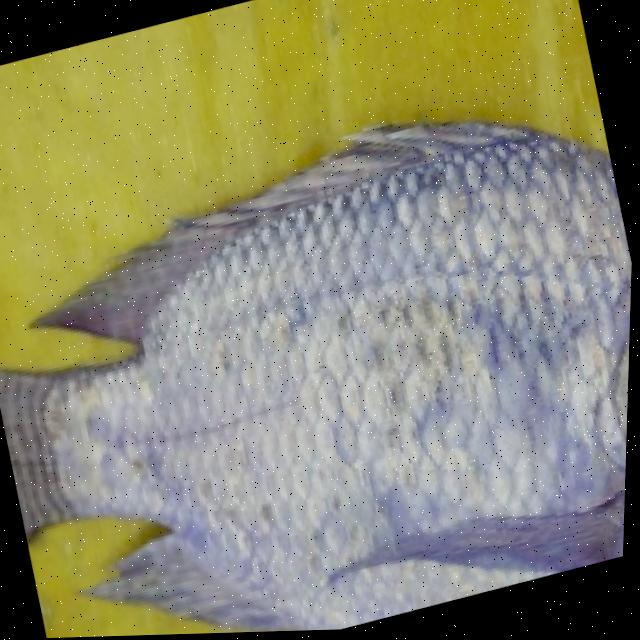Non-Fresh: (165, 143, 636, 636)
